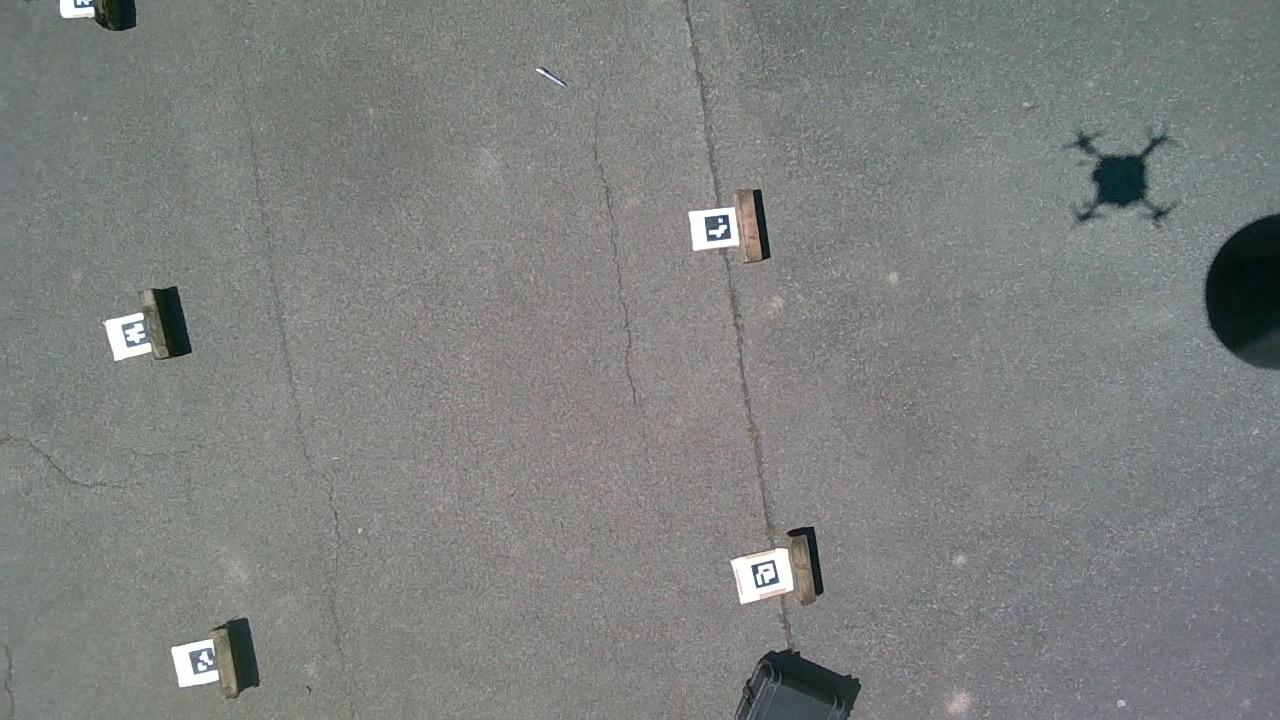probes: (536, 67, 566, 87)
